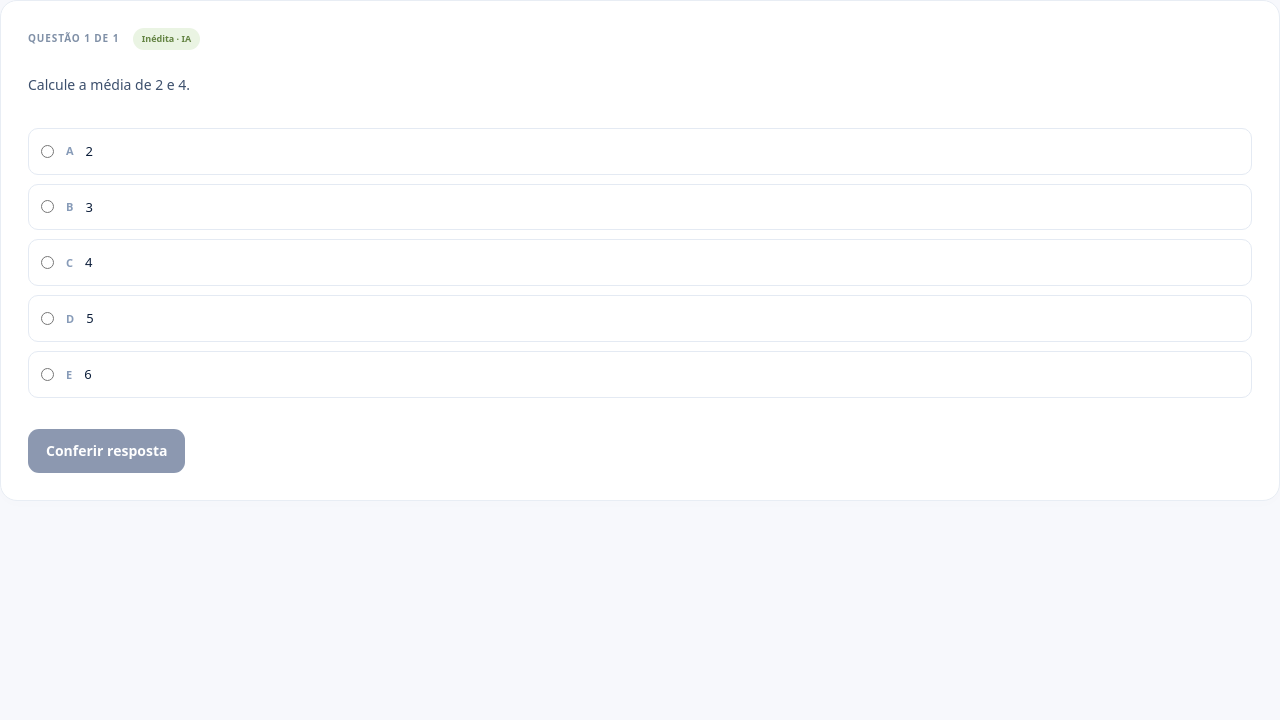
Test: Prática do estudante › oculta a correção até o envio e apresenta os passos após responder
Check: the text "Alternativa correta: B" is not shown
Check: the button "Conferir resposta" is disabled, box 28,429 -> 185,473
Click the radio button showing "B" at (48,207), box 41,200 -> 54,214
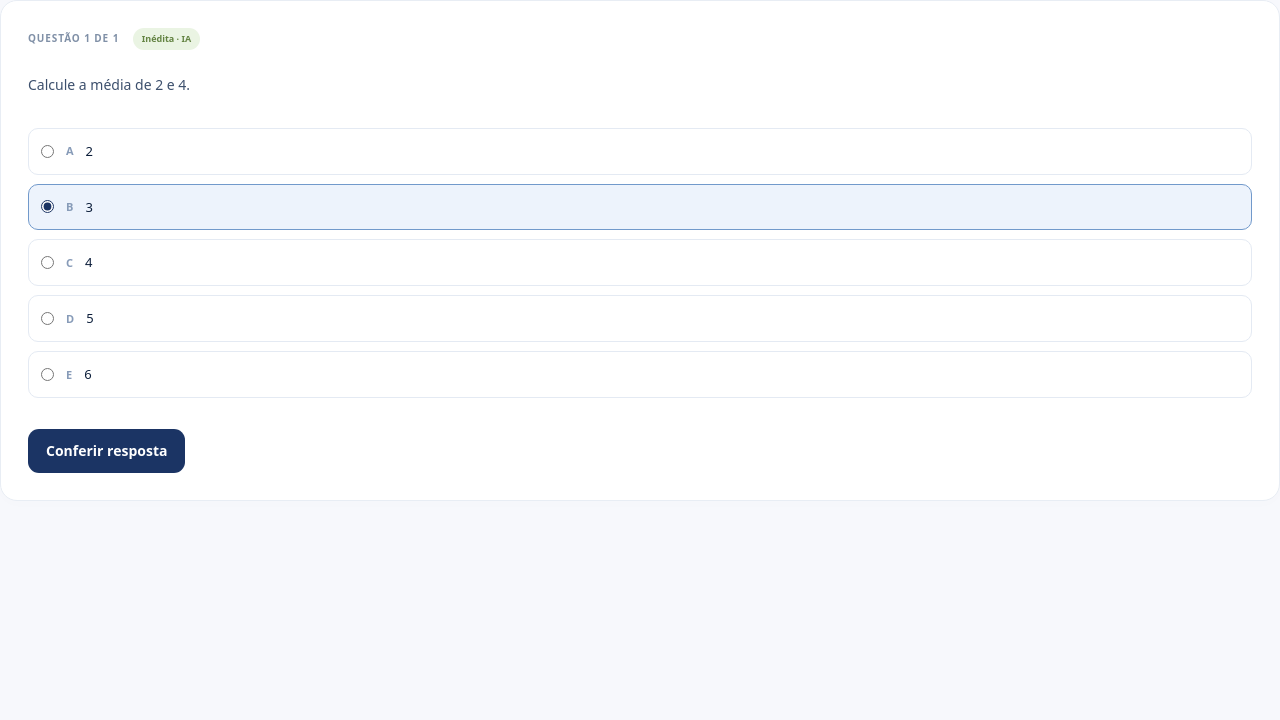
Click the button "Conferir resposta" at (107,451), box 28,429 -> 185,473
(page scrolled)
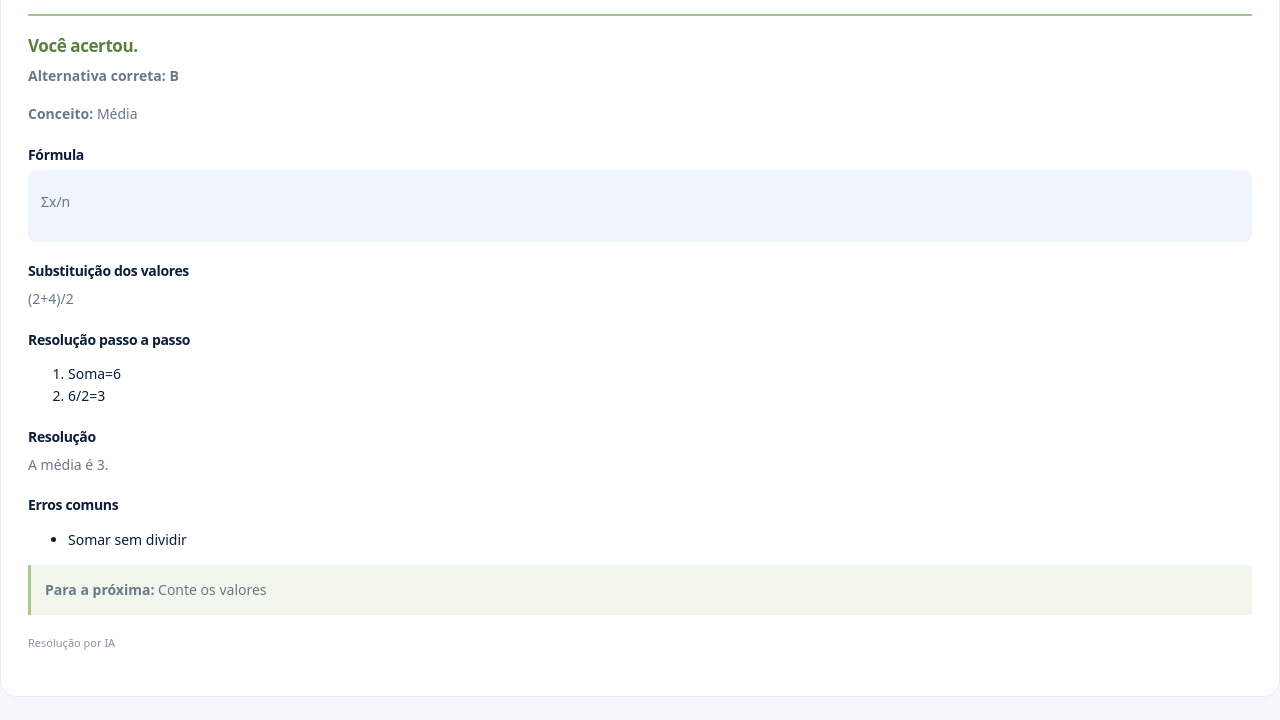
Check: the heading "Você acertou." is shown, box 28,34 -> 138,57
Check: the text "6/2=3" is shown, box 68,386 -> 105,405
Check: the heading "Erros comuns" is shown, box 28,495 -> 118,514
